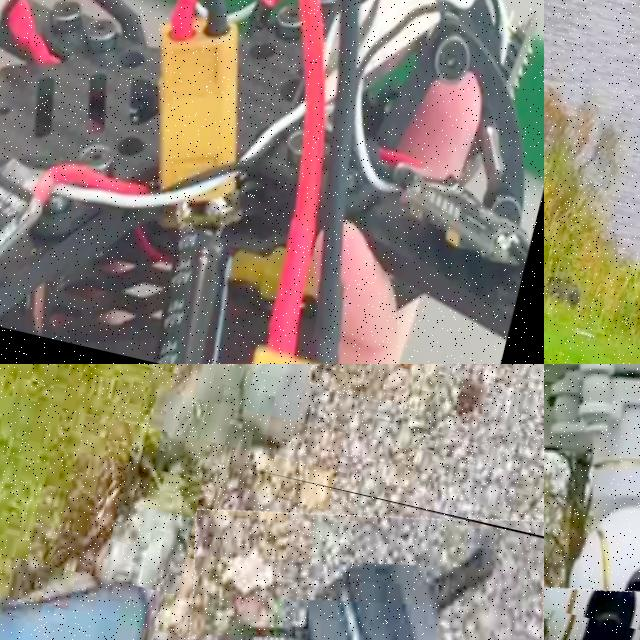0: (129, 462, 544, 640)
drone: (0, 0, 544, 364), (544, 364, 640, 640)
